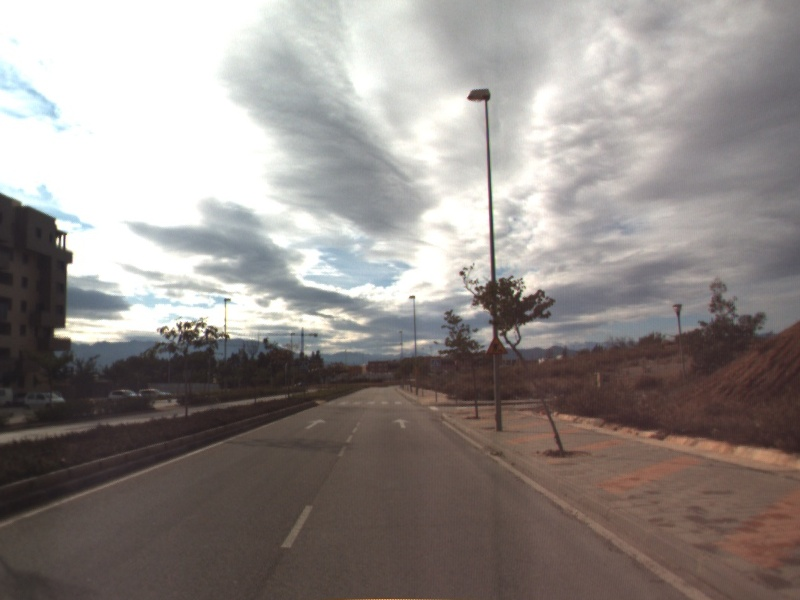STRAIGHT: (303, 417, 328, 431), (391, 416, 412, 430)
